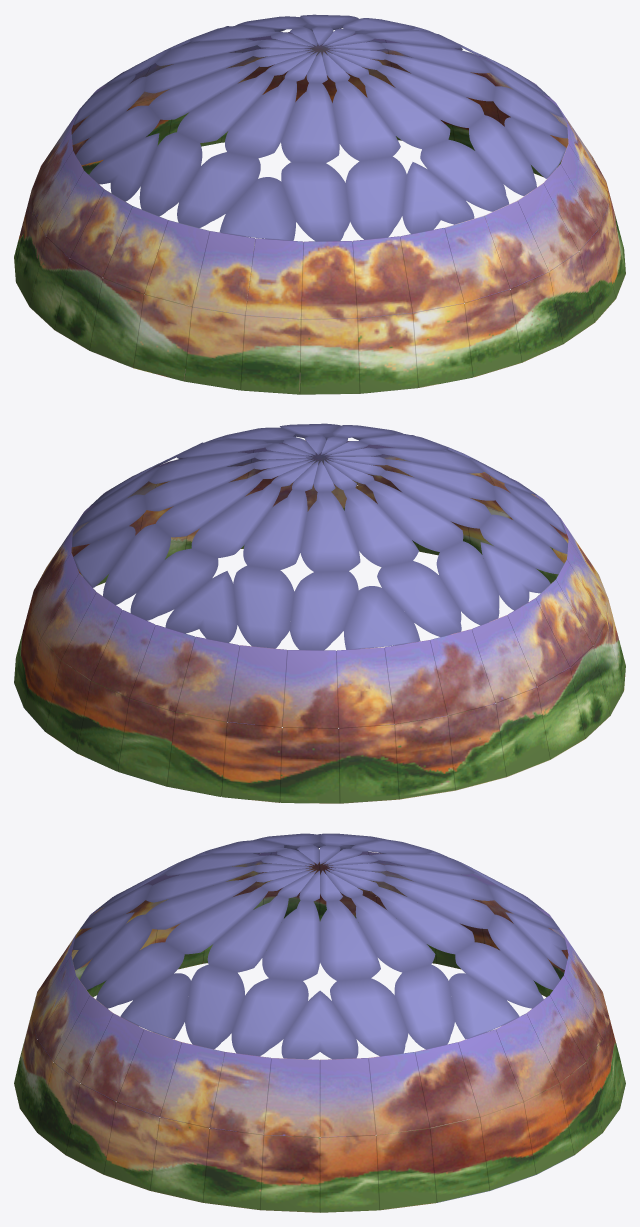
3 renders of one model, top to bottom at view 1: azimuth 30°, elevation 25°; view 2: azimuth 150°, elevation 25°; view 3: azimuth 270°, elevation 25°, orthographic.
Visible parts, largest first — view 1: T1L7M006_28; view 2: T1L7M006_28; view 3: T1L7M006_28.
Boxes of the visible parts, left/top/right/bottom form: T1L7M006_28: left=14, top=14, right=625, bottom=394; T1L7M006_28: left=14, top=423, right=625, bottom=803; T1L7M006_28: left=14, top=833, right=625, bottom=1212.
Size of the model in its own units: 4.09 by 1.6 by 4.09.
